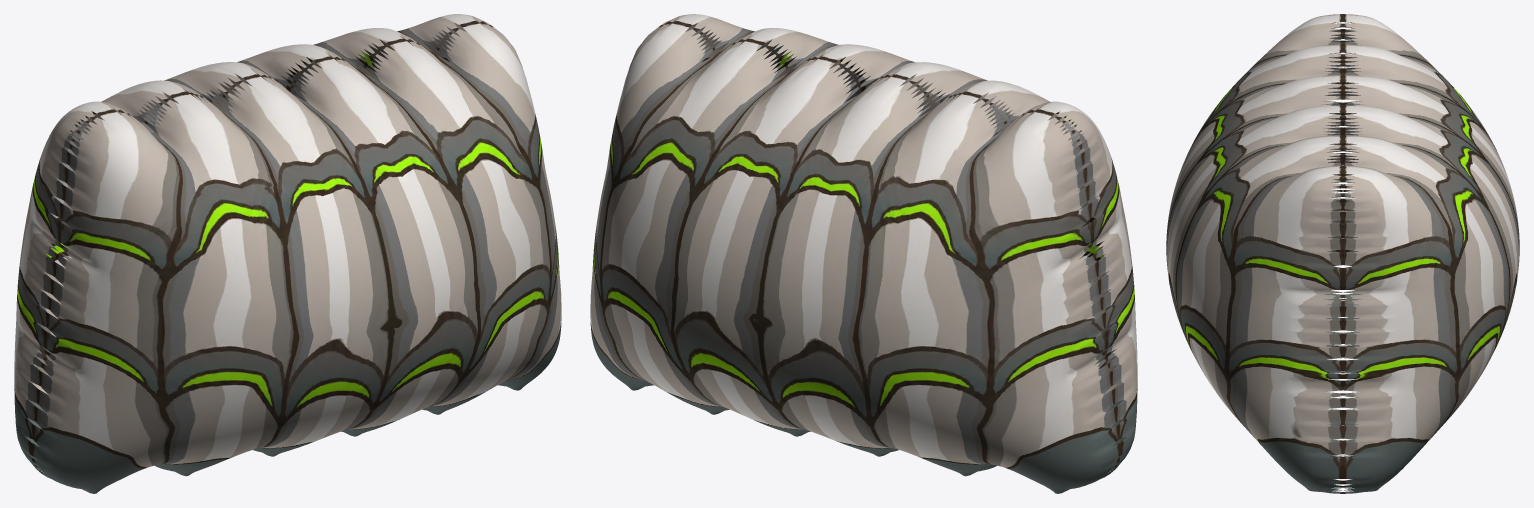
Rendered from roller_bank.glb.
3 renders of one model, left to right at view 1: azimuth 30°, elevation 25°; view 2: azimuth 150°, elevation 25°; view 3: azimuth 270°, elevation 25°, orthographic. The views are drawn at different scales.
Visible parts, largest first — view 1: roller_bank; view 2: roller_bank; view 3: roller_bank.
Boxes of the visible parts, left/top/right/bottom form: roller_bank: left=14, top=14, right=561, bottom=493; roller_bank: left=590, top=14, right=1137, bottom=493; roller_bank: left=1166, top=14, right=1519, bottom=493.
Size of the model in its own units: 0.9889 by 0.6625 by 0.6893.
Materials: 1 (1 with a texture image).
